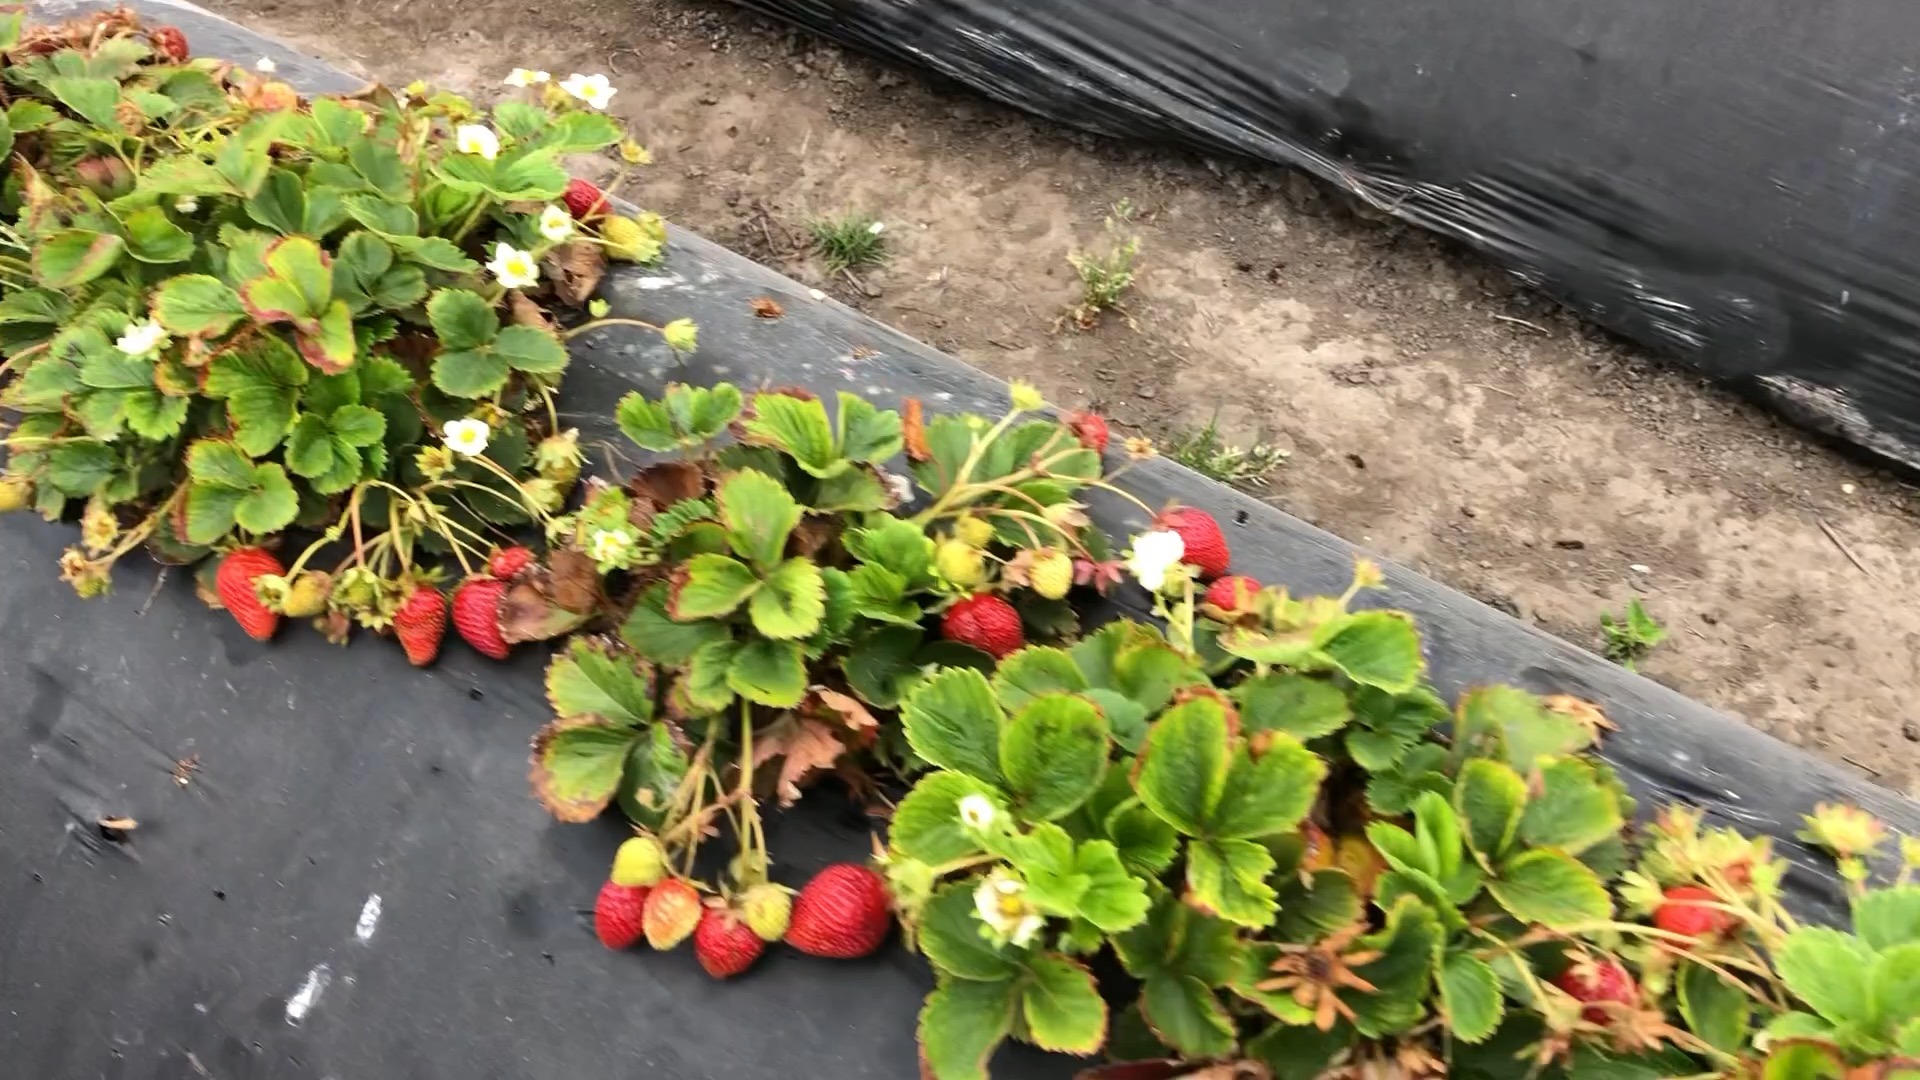ripe_strawberry: (783, 858, 893, 960), (214, 542, 290, 646), (1552, 953, 1642, 1029), (694, 898, 773, 982), (1149, 502, 1236, 579), (451, 571, 520, 665), (940, 592, 1029, 663), (388, 575, 448, 673), (1654, 884, 1735, 953), (593, 881, 651, 956), (1200, 571, 1265, 611), (560, 175, 615, 222), (1064, 411, 1114, 458)
unripe_strawberry: (638, 876, 703, 956), (741, 884, 799, 944), (611, 832, 673, 889), (599, 214, 665, 265), (928, 538, 992, 589), (535, 434, 584, 498), (1023, 546, 1077, 604), (281, 568, 336, 622), (345, 566, 378, 618), (951, 514, 1000, 549)
